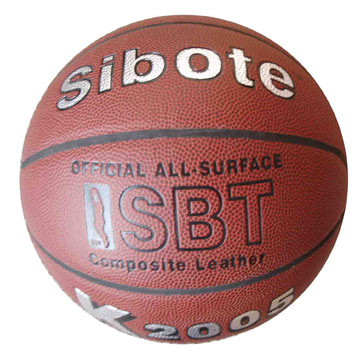basketball: (18, 14, 349, 344)
